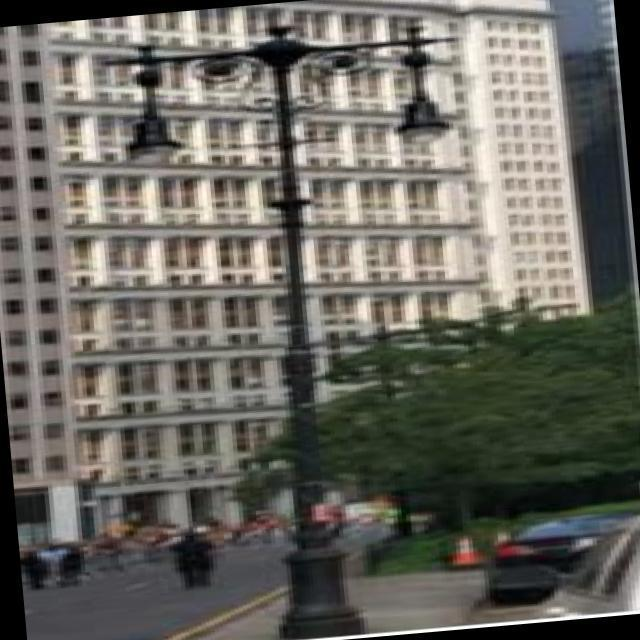off: (380, 3, 478, 158), (113, 36, 184, 176)
